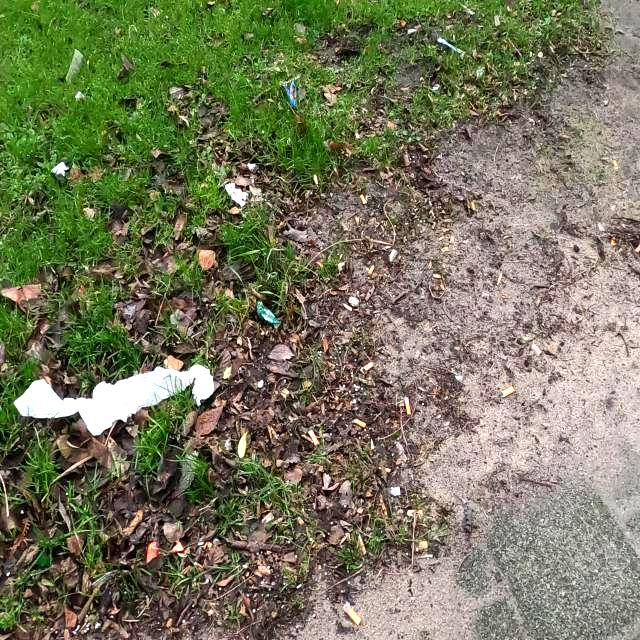Paper: (13, 364, 215, 436)
Plastic: (256, 300, 282, 328), (225, 183, 249, 207), (285, 80, 297, 108)
